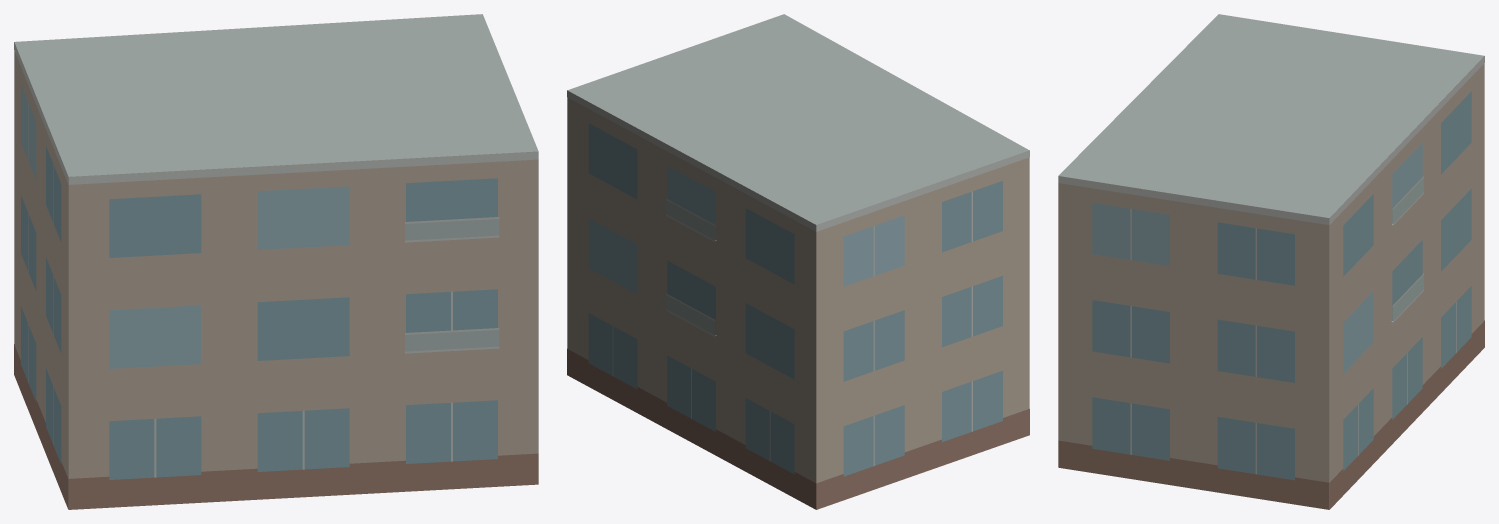
Rendered from survey-upis-32880232.glb.
The picture shows the model from 3 angles, left to right: view 1: azimuth 30°, elevation 25°; view 2: azimuth 150°, elevation 25°; view 3: azimuth 270°, elevation 25°; orthographic projection. The views are drawn at different scales.
Visible parts, largest first — view 1: survey-upis-32880232.tmp; view 2: survey-upis-32880232.tmp; view 3: survey-upis-32880232.tmp.
Part boxes in pixels (x1=…): survey-upis-32880232.tmp: x1=14, y1=14, x2=538, y2=509; survey-upis-32880232.tmp: x1=567, y1=14, x2=1029, y2=509; survey-upis-32880232.tmp: x1=1058, y1=14, x2=1484, y2=509.
Bounding box in the file's own units: 15.17 × 10.1 × 13.39.
